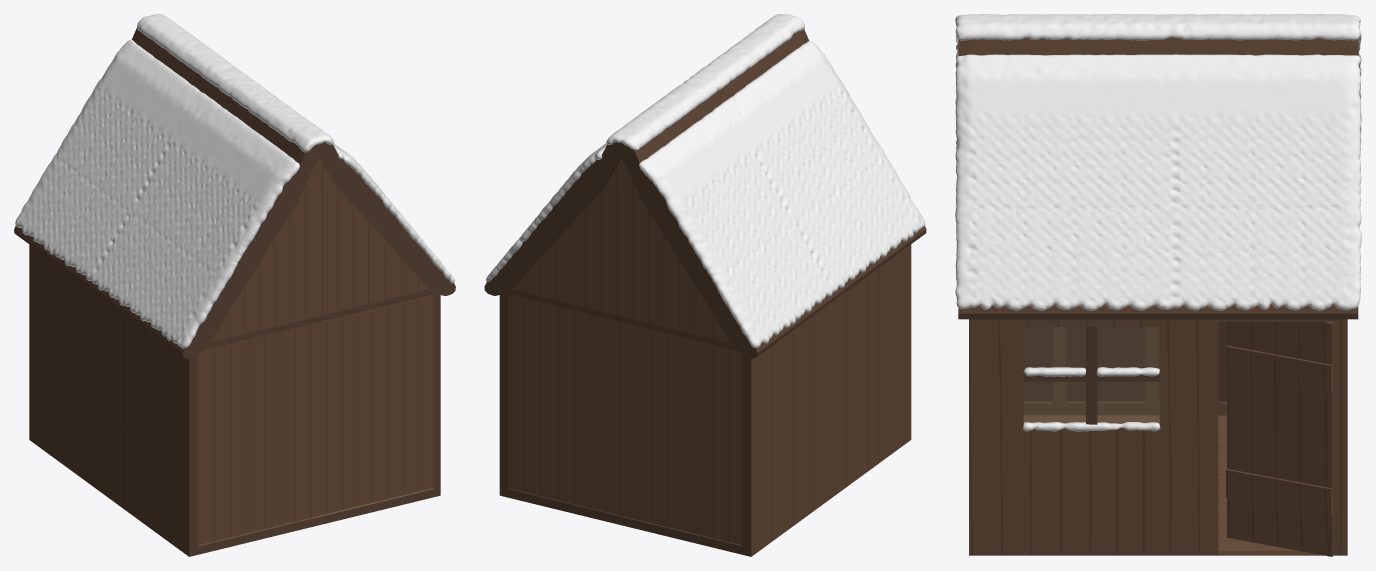
File: gardenshed.fbx
3 views of the same model, side by side, from view 1: azimuth 30°, elevation 25°; view 2: azimuth 150°, elevation 25°; view 3: azimuth 270°, elevation 25° (orthographic). The views are drawn at different scales.
Parts seen in each view (by area): view 1: Garden Shed, SnowBall.001; view 2: Garden Shed, SnowBall.001; view 3: SnowBall.001, Garden Shed, Shed Door.
Part boxes in pixels (x1,y1,x2,y2): Garden Shed: (14, 28, 455, 556); SnowBall.001: (15, 14, 454, 348); Garden Shed: (484, 29, 926, 556); SnowBall.001: (486, 14, 925, 348); SnowBall.001: (955, 14, 1361, 431); Garden Shed: (958, 37, 1358, 555); Shed Door: (1226, 322, 1333, 556).
Size of the model in its own units: 699 by 952 by 754.
Materials: 6 (2 with a texture image).
